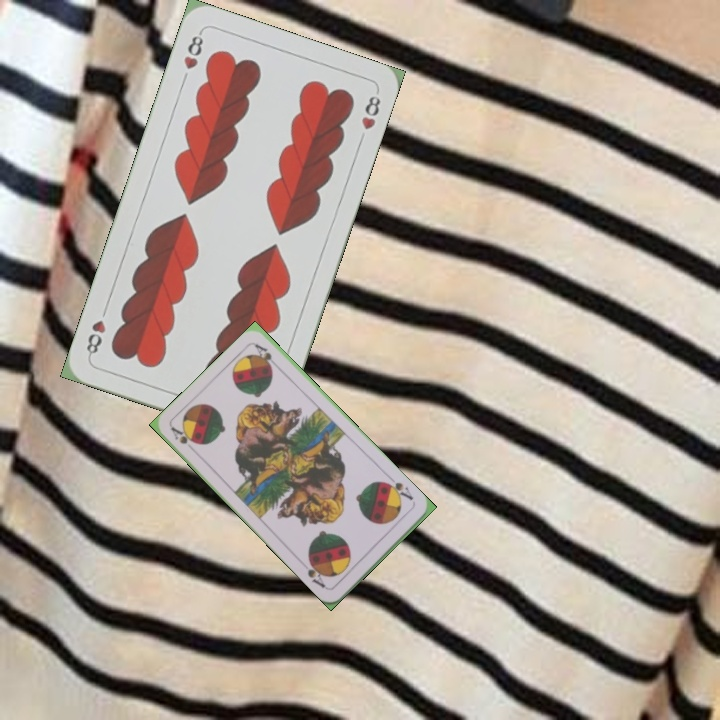H8: (179, 27, 206, 72)
SA: (167, 422, 200, 456), (382, 473, 416, 503)
